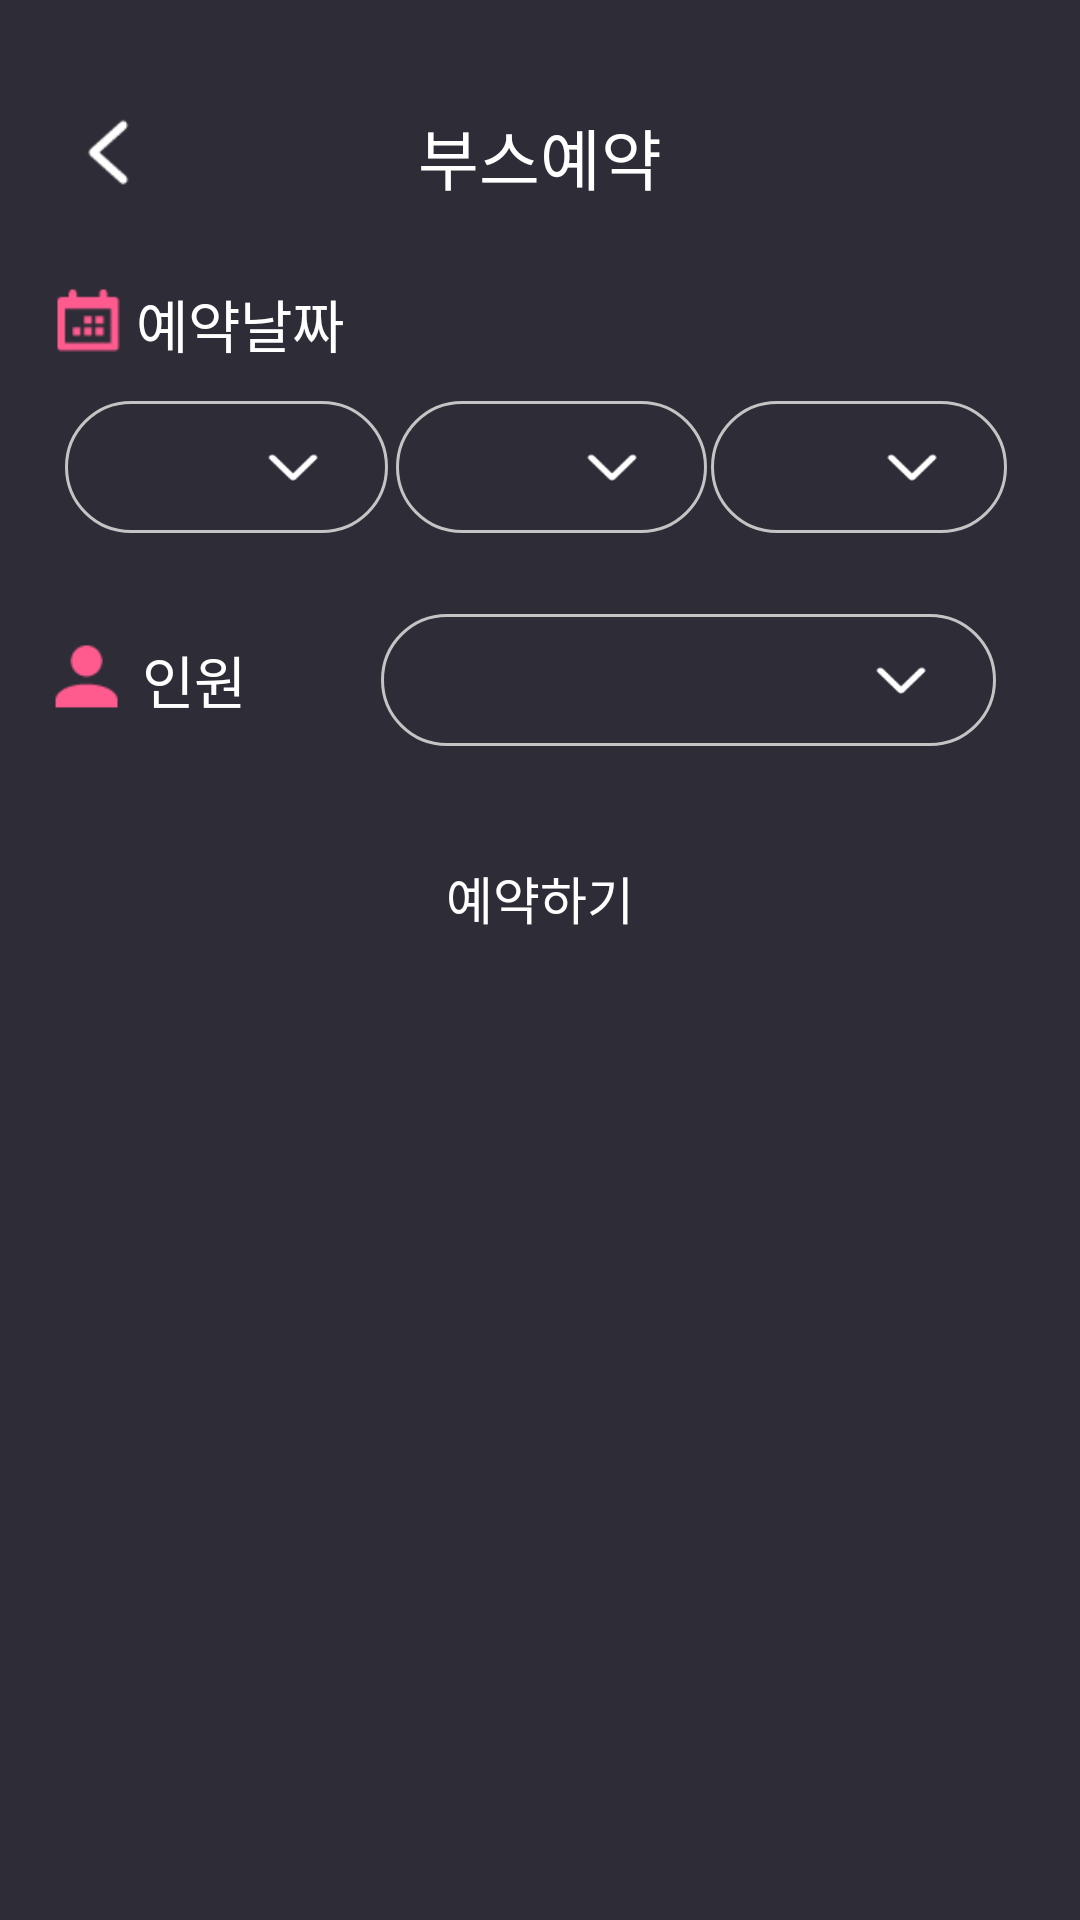

Icon bounding boxes for this 1080×1920 phone screenshot, format (x1, y1, x2, y2):
reservation date: (57, 289, 120, 352)
